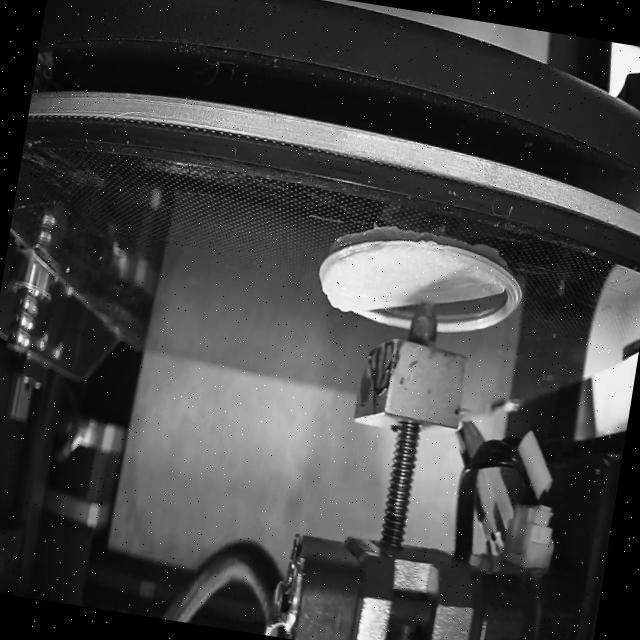over_extrusion: (312, 254, 358, 329)
